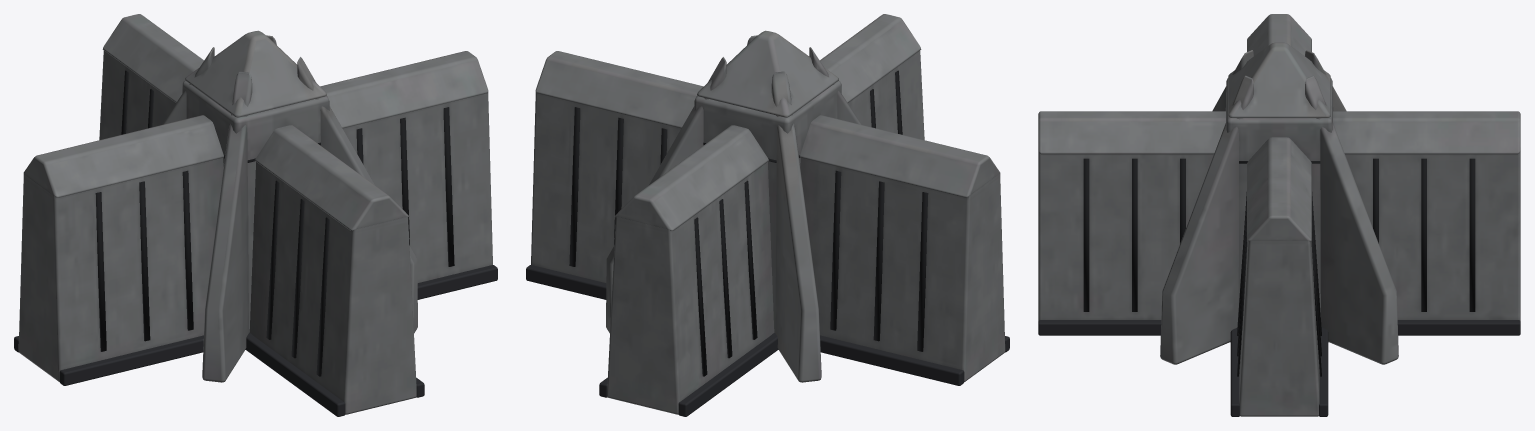
Rendered from NAWALL.glb.
3 views of the same model, side by side, from view 1: azimuth 30°, elevation 25°; view 2: azimuth 150°, elevation 25°; view 3: azimuth 270°, elevation 25° (orthographic). The views are drawn at different scales.
Visible parts, largest first — view 1: ArmXN, ArmZP, ArmXP, Post, ArmZN, ArmXNDetail, ArmZPDetail, ArmXPDetail, ArmZNDetail; view 2: ArmXN, ArmZN, ArmXP, Post, ArmZP, ArmXNDetail, ArmZNDetail, ArmXPDetail, ArmZPDetail; view 3: Post, ArmZN, ArmZP, ArmXP, ArmZNDetail, ArmZPDetail, ArmXPDetail, ArmXN.
Part boxes in pixels (<box>): ArmXN: <box>18,115,223,382</box>; ArmZP: <box>249,125,416,414</box>; ArmXP: <box>320,51,492,282</box>; Post: <box>162,30,417,382</box>; ArmZN: <box>99,14,203,140</box>; ArmXNDetail: <box>14,170,203,385</box>; ArmZPDetail: <box>246,180,424,416</box>; ArmXPDetail: <box>356,107,497,299</box>; ArmZNDetail: <box>121,70,153,134</box>; ArmXN: <box>800,115,1005,382</box>; ArmZN: <box>607,125,774,414</box>; ArmXP: <box>531,51,703,282</box>; Post: <box>606,30,861,382</box>; ArmZP: <box>820,14,924,140</box>; ArmXNDetail: <box>820,170,1009,385</box>; ArmZNDetail: <box>599,180,777,416</box>; ArmXPDetail: <box>526,107,667,299</box>; ArmZPDetail: <box>870,70,902,134</box>; Post: <box>1160,42,1398,364</box>; ArmZN: <box>1333,111,1520,320</box>; ArmZP: <box>1038,111,1225,320</box>; ArmXP: <box>1239,137,1319,416</box>; ArmZNDetail: <box>1373,158,1520,335</box>; ArmZPDetail: <box>1038,158,1185,335</box>; ArmXPDetail: <box>1230,192,1328,416</box>; ArmXN: <box>1247,14,1311,55</box>.
Size of the model in its own units: 1 by 0.62 by 1.
7 materials, 5 textured.
